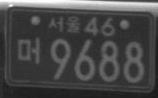4: (81, 15, 100, 37)
6: (72, 38, 96, 81), (100, 16, 116, 37)
8: (96, 39, 121, 83), (121, 40, 145, 84)
9: (48, 37, 72, 80)
머: (15, 36, 41, 65)
서울_O: (47, 14, 82, 34)
